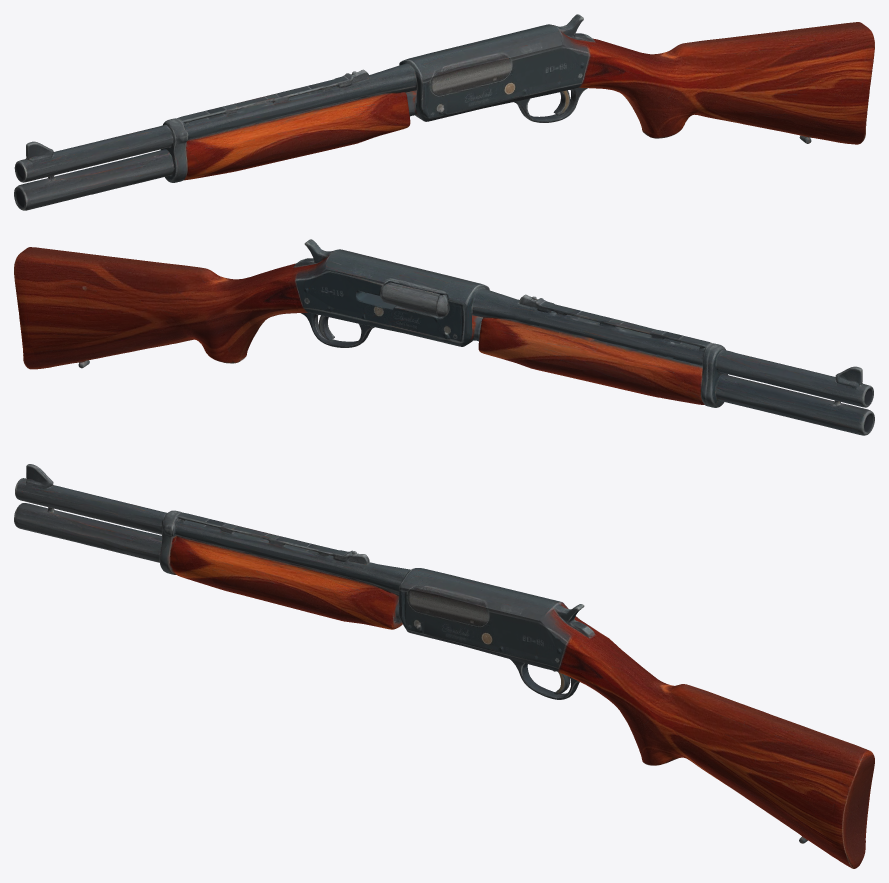
Rendered from shotgun.glb.
3 renders of one model, top to bottom at view 1: azimuth 30°, elevation 25°; view 2: azimuth 150°, elevation 25°; view 3: azimuth 330°, elevation 25°, orthographic.
Bounding box in the file's own units: 1.9 × 0.4345 × 0.1122.
1 material, 1 textured.
